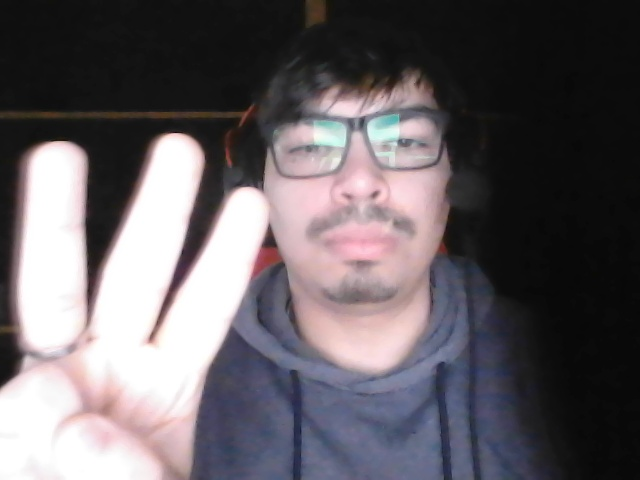three: (1, 123, 282, 480)
